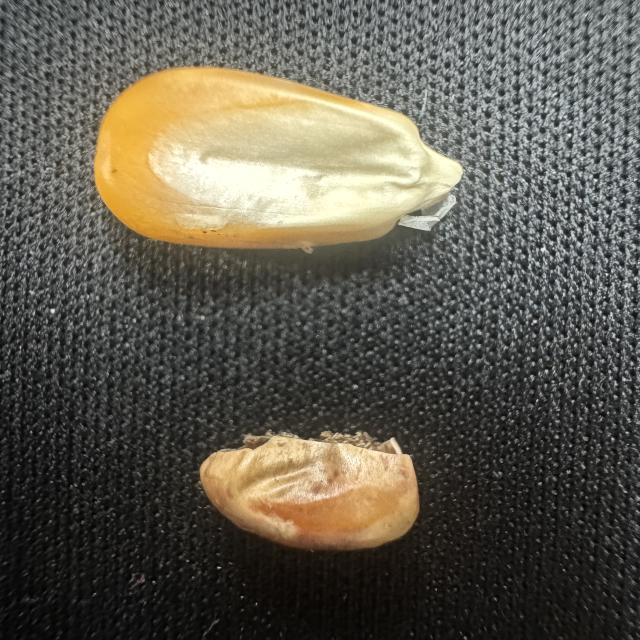Bad-Seed: (184, 421, 443, 556)
Good-Seed: (87, 54, 467, 271)
